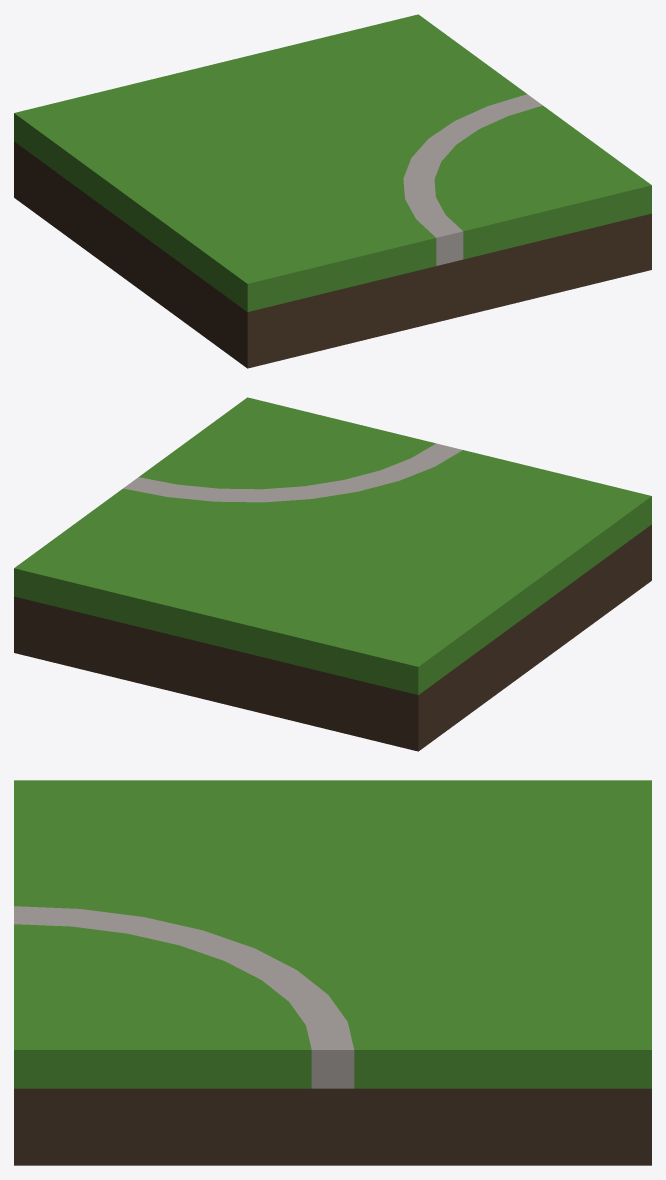
File: tiles-tile-sidewalk-curve.glb
3 renders of one model, top to bottom at view 1: azimuth 30°, elevation 25°; view 2: azimuth 150°, elevation 25°; view 3: azimuth 270°, elevation 25°, orthographic. The views are drawn at different scales.
Visible parts, largest first — view 1: tile-sidewalk-curve; view 2: tile-sidewalk-curve; view 3: tile-sidewalk-curve.
Part boxes in pixels (<box>): tile-sidewalk-curve: <box>14,14,651,368</box>; tile-sidewalk-curve: <box>14,397,651,751</box>; tile-sidewalk-curve: <box>14,780,651,1165</box>.
Size of the model in its own units: 30 by 6 by 30.
